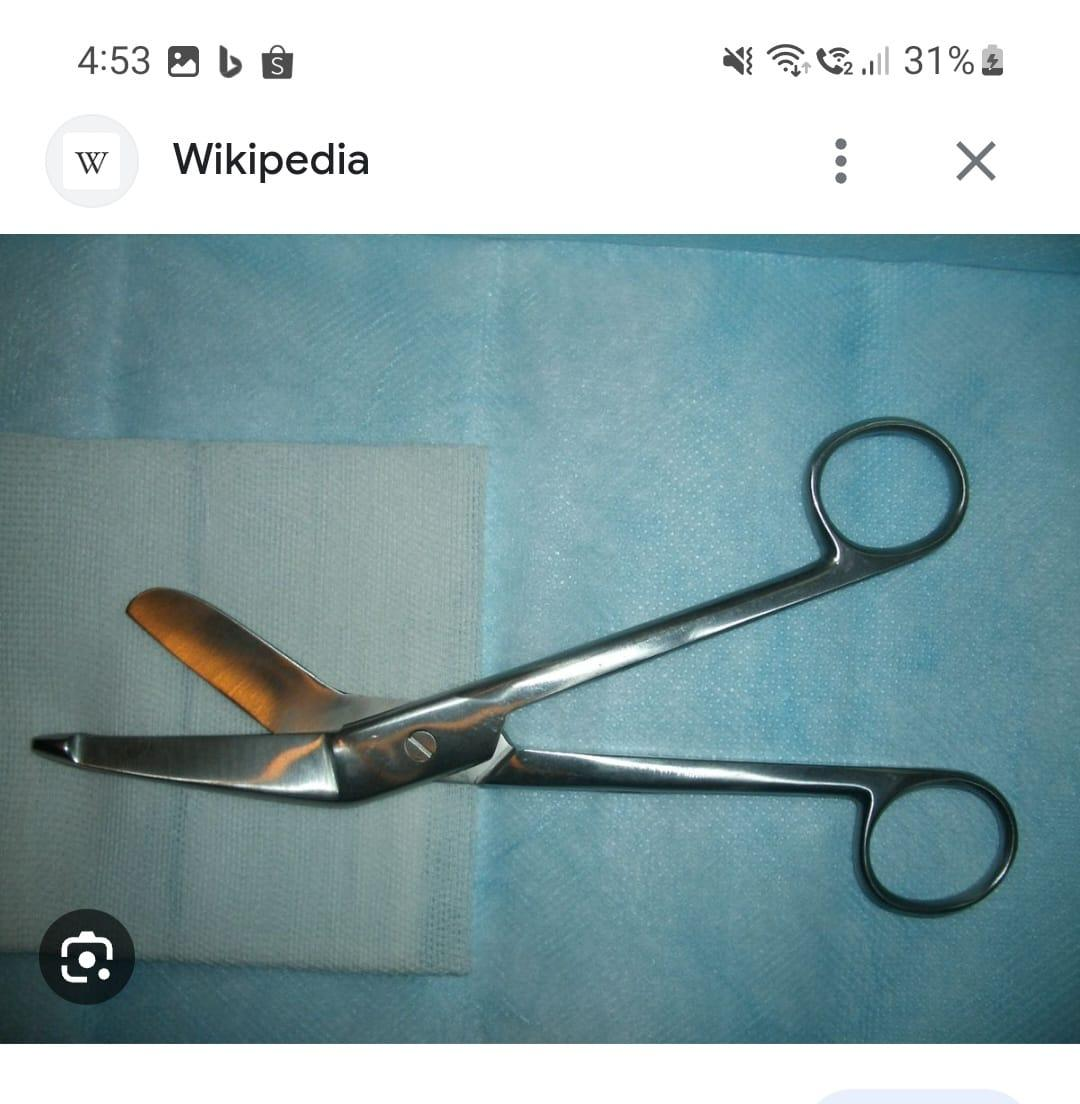Bandage Sciccors: (25, 410, 1022, 923)
